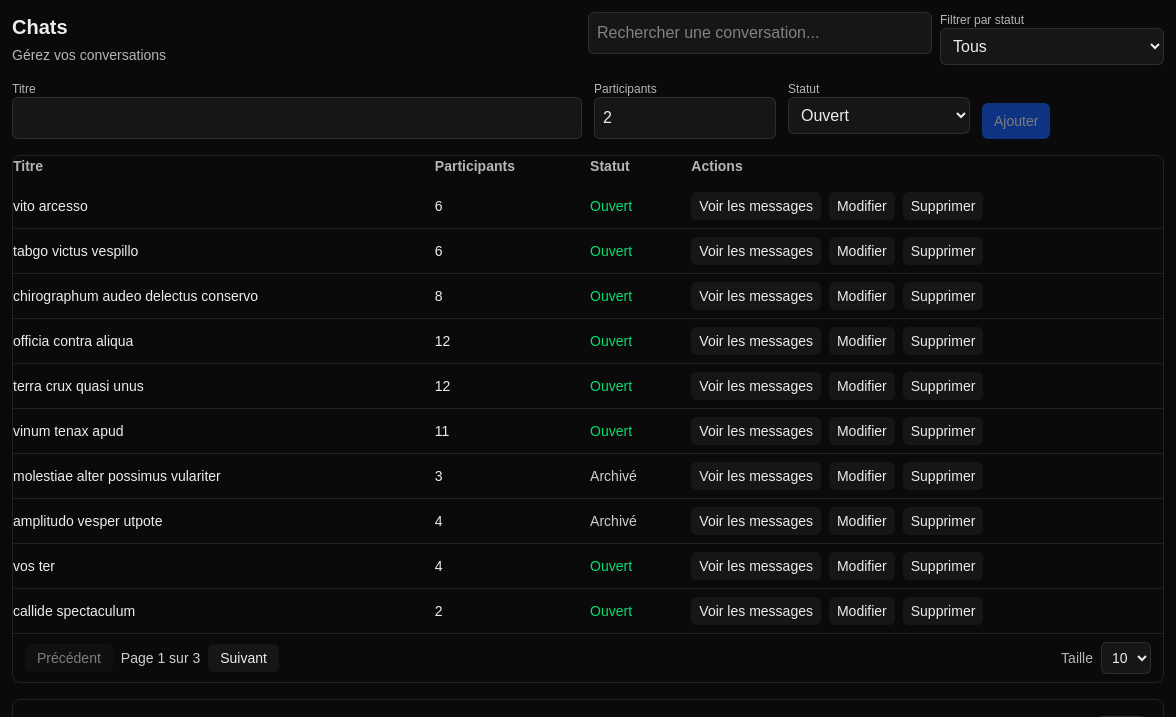
Test case: ChatsPage › édition inline: annuler ne persiste pas les modifications
Créer une ligne à éditer
Type "Edit Annul" into the field labelled "Titre". click: (297, 118)
box: [12,97,582,139]
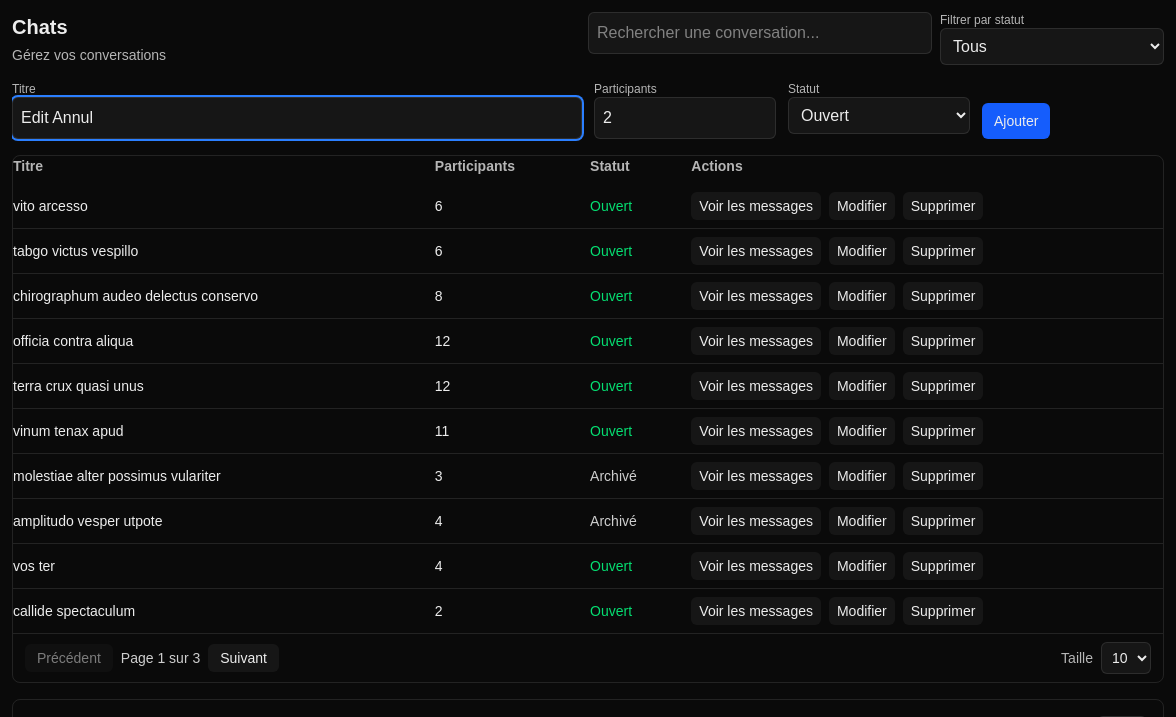
Click the button "Ajouter". click: (1016, 121)
box: [982,103,1050,139]
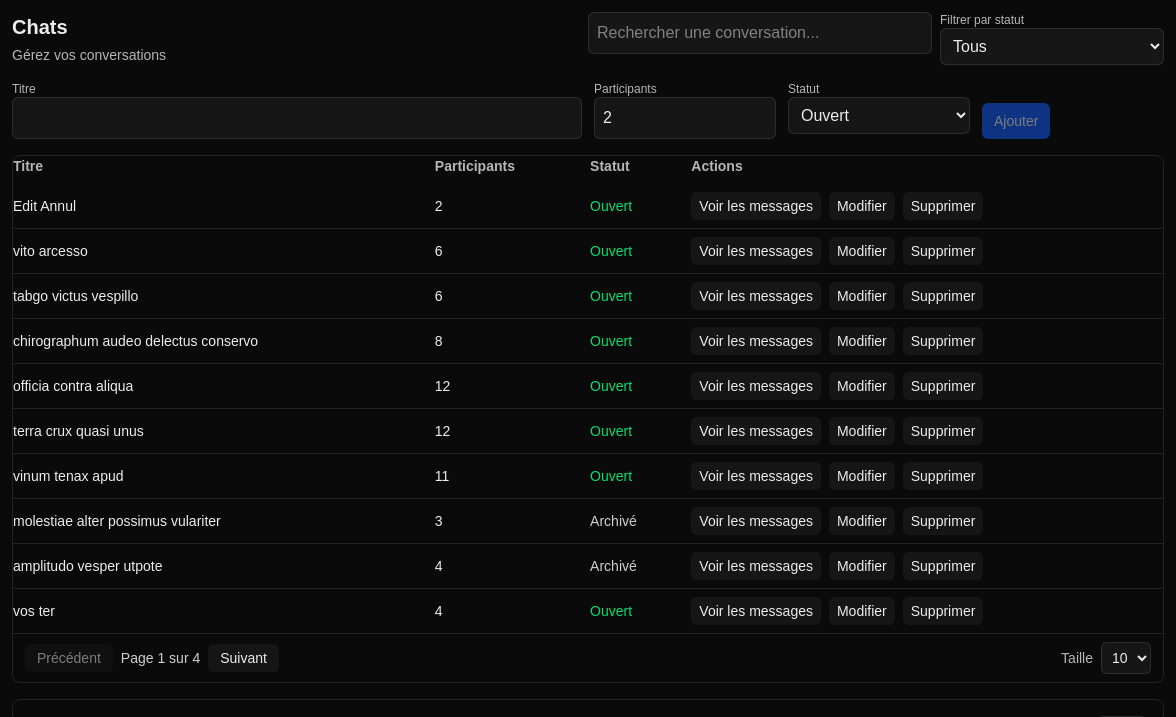
Passer en mode édition
Click the button "Modifier" in the row of "Edit Annul". click: (862, 206)
box: [829,192,895,220]
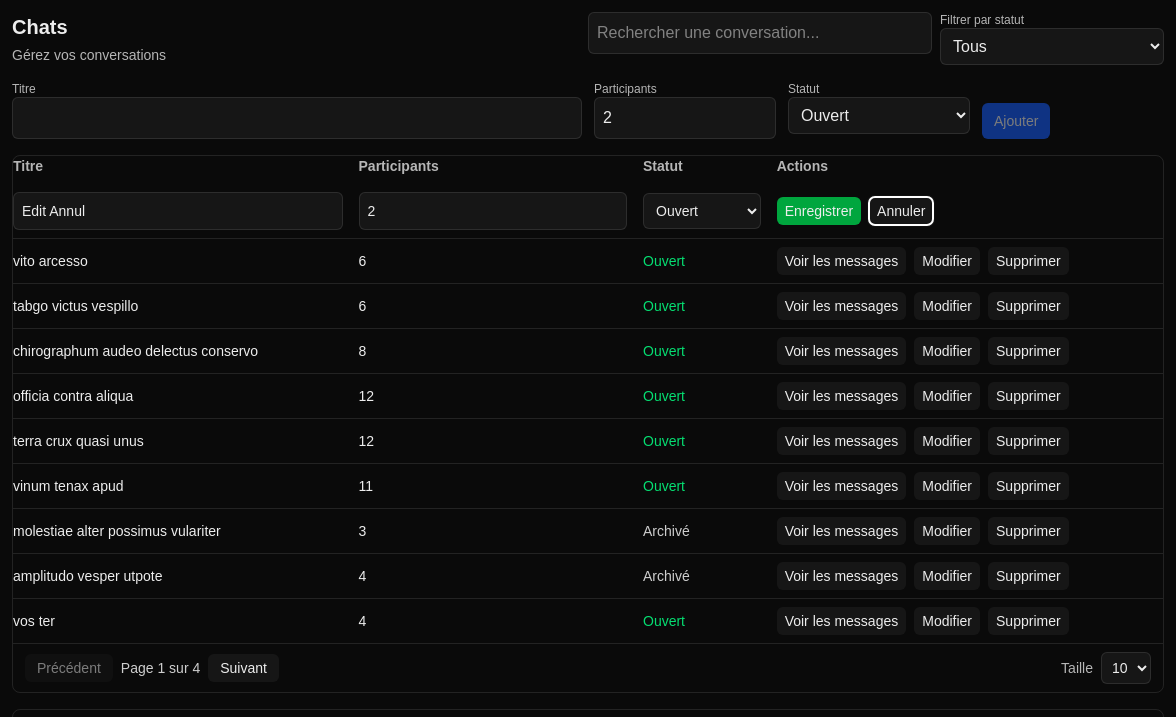
Replace the text in the field showing "Edit Annul" with "Modifié". click: (178, 211)
box: [13,192,342,230]
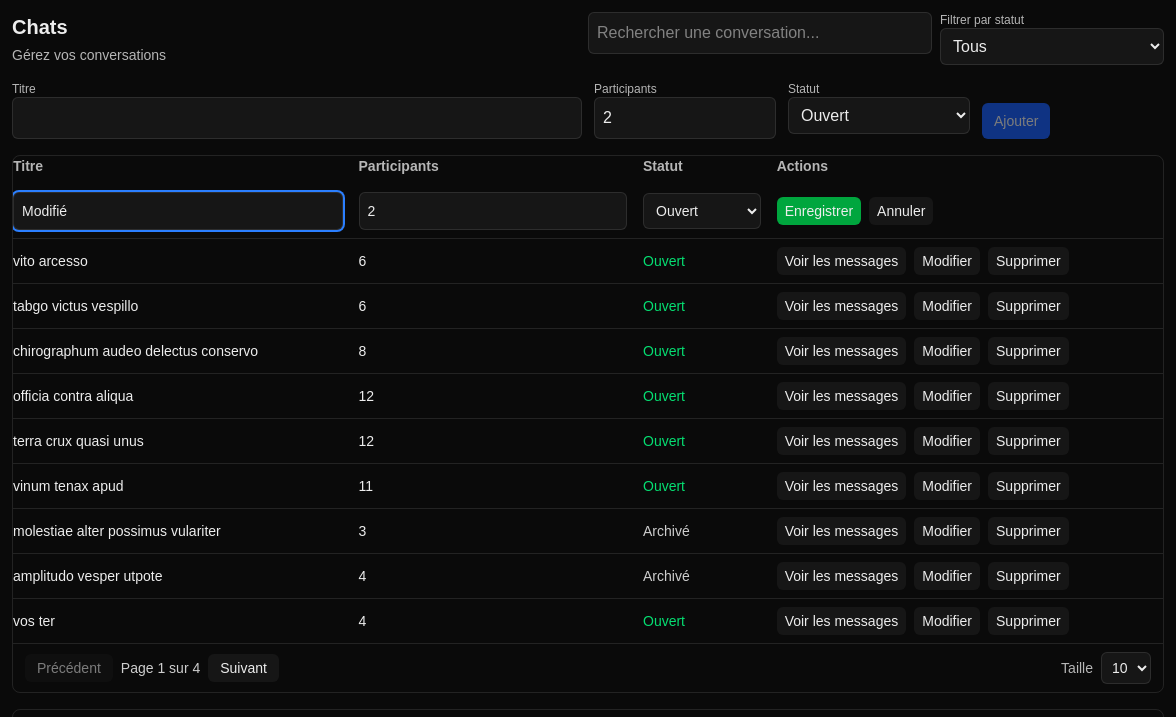
Click the button "Annuler". click: (901, 211)
box: [869,197,933,225]
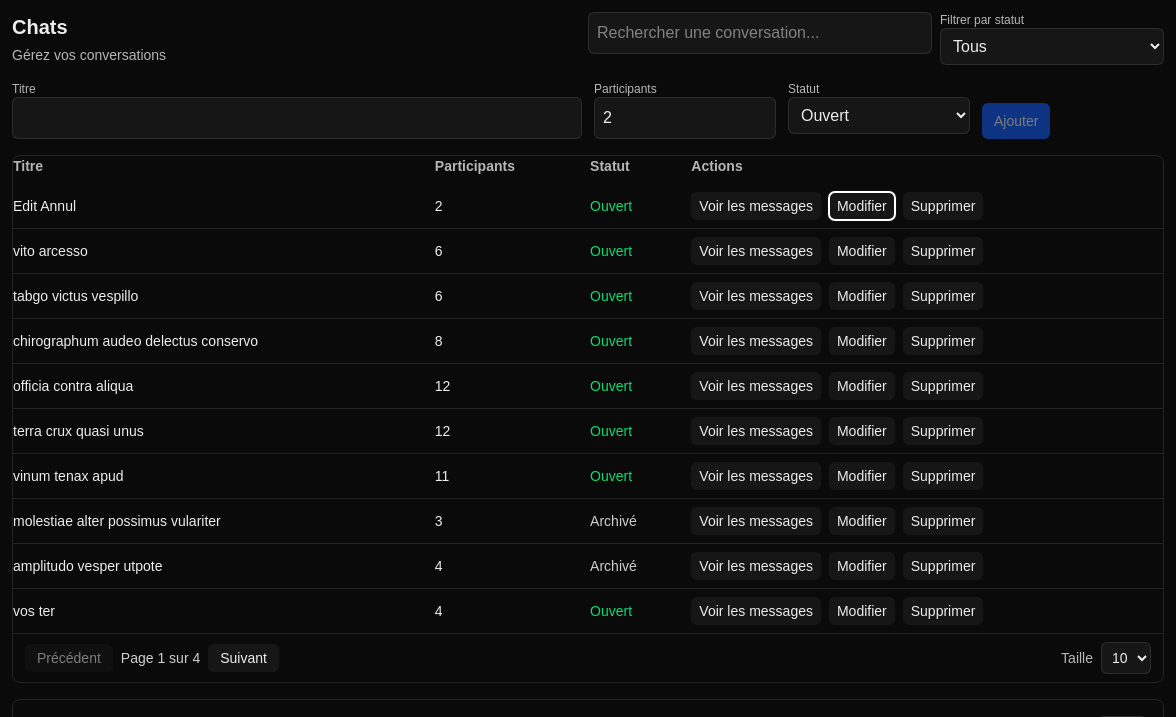
Check: the text "Edit Annul" is shown, box [13,198,76,214]
